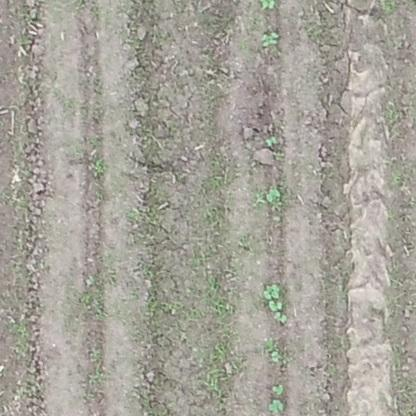vc: (263, 399, 288, 414), (262, 29, 279, 48), (263, 187, 282, 203), (264, 284, 282, 299), (265, 135, 284, 148), (269, 349, 284, 364), (271, 383, 286, 397), (274, 314, 289, 324), (271, 300, 284, 311)
